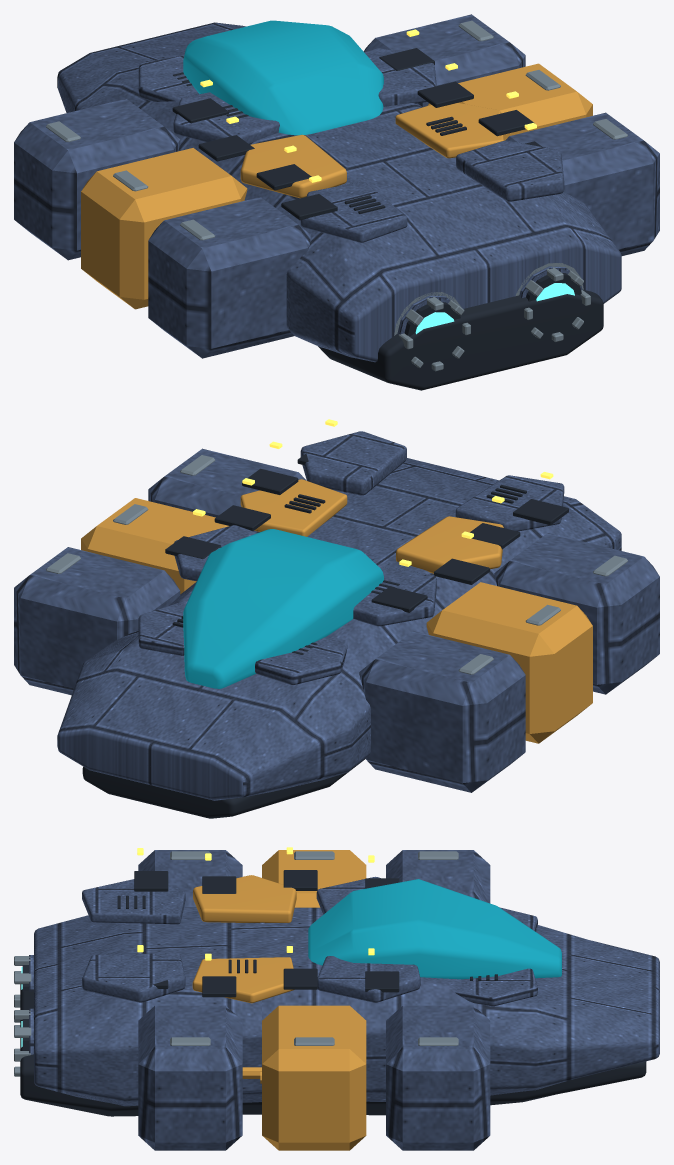
Rendered from meridian.glb.
The picture shows the model from 3 angles, top to bottom: view 1: azimuth 30°, elevation 25°; view 2: azimuth 150°, elevation 25°; view 3: azimuth 270°, elevation 25°; orthographic projection. The views are drawn at different scales.
Parts seen in each view (by area): view 1: Gôndola do motor.031 · exportação, Colar da turbina.094 · exportação, Bocal do motor.031 · exportação, Cabine panorâmica.015 · exportação, Aleta do bocal.255 · exportação, Núcleo propulsor.031 · exportação, Luz de serviço.127 · exportação; view 2: Gôndola do motor.031 · exportação, Colar da turbina.094 · exportação, Cabine panorâmica.015 · exportação, Bocal do motor.031 · exportação, Aleta do bocal.255 · exportação, Luz de serviço.127 · exportação; view 3: Gôndola do motor.031 · exportação, Colar da turbina.094 · exportação, Cabine panorâmica.015 · exportação, Bocal do motor.031 · exportação, Aleta do bocal.255 · exportação.
Boxes of the visible parts, left/top/right/bottom form: Gôndola do motor.031 · exportação: left=14, top=14, right=659, bottom=362; Colar da turbina.094 · exportação: left=81, top=63, right=592, bottom=309; Bocal do motor.031 · exportação: left=172, top=48, right=603, bottom=390; Cabine panorâmica.015 · exportação: left=183, top=20, right=383, bottom=135; Aleta do bocal.255 · exportação: left=46, top=20, right=627, bottom=371; Núcleo propulsor.031 · exportação: left=415, top=283, right=574, bottom=334; Luz de serviço.127 · exportação: left=200, top=29, right=536, bottom=182; Gôndola do motor.031 · exportação: left=14, top=431, right=659, bottom=800; Colar da turbina.094 · exportação: left=81, top=479, right=592, bottom=743; Cabine panorâmica.015 · exportação: left=183, top=529, right=383, bottom=688; Bocal do motor.031 · exportação: left=82, top=453, right=568, bottom=818; Aleta do bocal.255 · exportação: left=46, top=455, right=627, bottom=674; Luz de serviço.127 · exportação: left=193, top=419, right=553, bottom=566; Gôndola do motor.031 · exportação: left=29, top=850, right=659, bottom=1150; Colar da turbina.094 · exportação: left=192, top=850, right=366, bottom=1150; Cabine panorâmica.015 · exportação: left=308, top=879, right=561, bottom=979; Bocal do motor.031 · exportação: left=20, top=870, right=646, bottom=1116; Aleta do bocal.255 · exportação: left=14, top=851, right=458, bottom=1076.
Size of the model in its own units: 37.14 by 15.26 by 47.54.
Materials: 7 (1 with a texture image).
